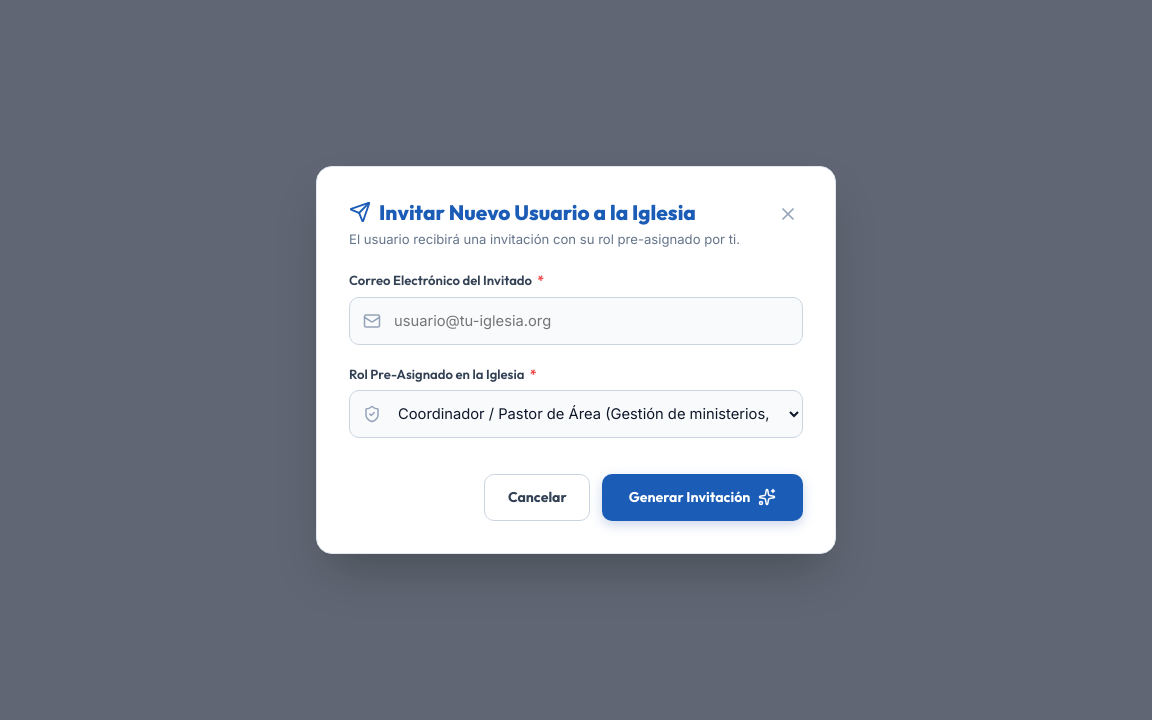
it: UserInviteModal Component › generates invitation link when submitted
Type "nuevo@ong.org" into the field with placeholder "usuario@tu-iglesia.org" at [576, 321], box [349,297,803,345]
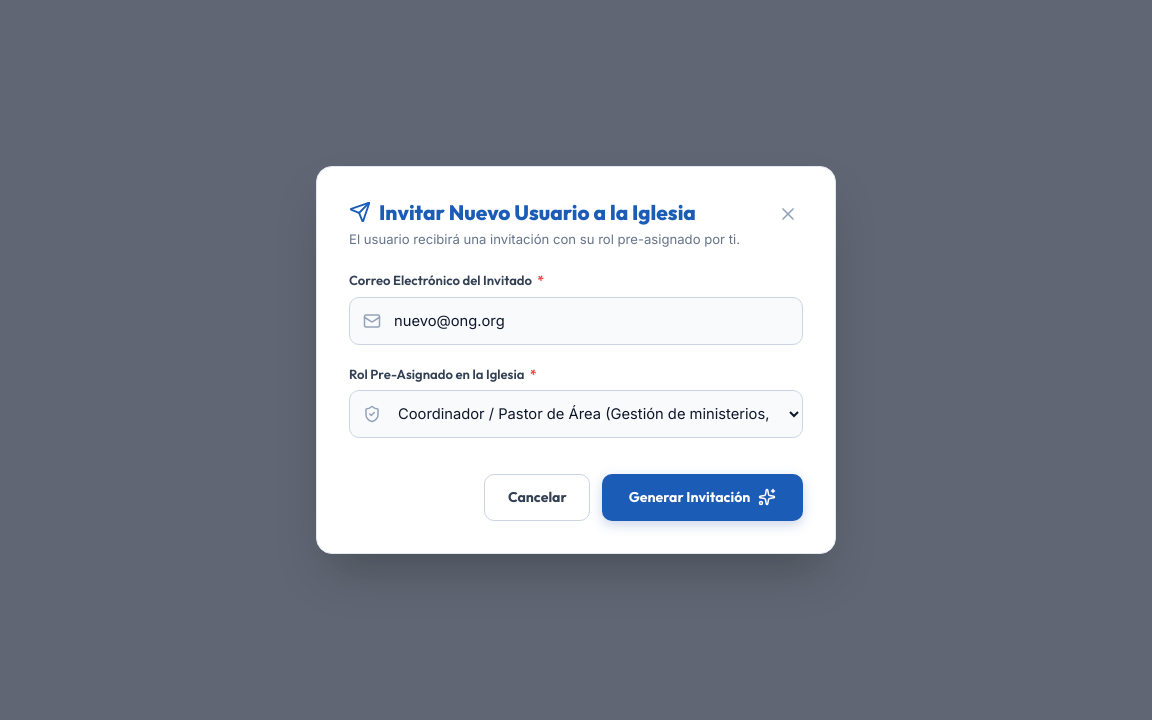
Click the button "Generar Invitación" at [703, 497], box [602,474,803,521]
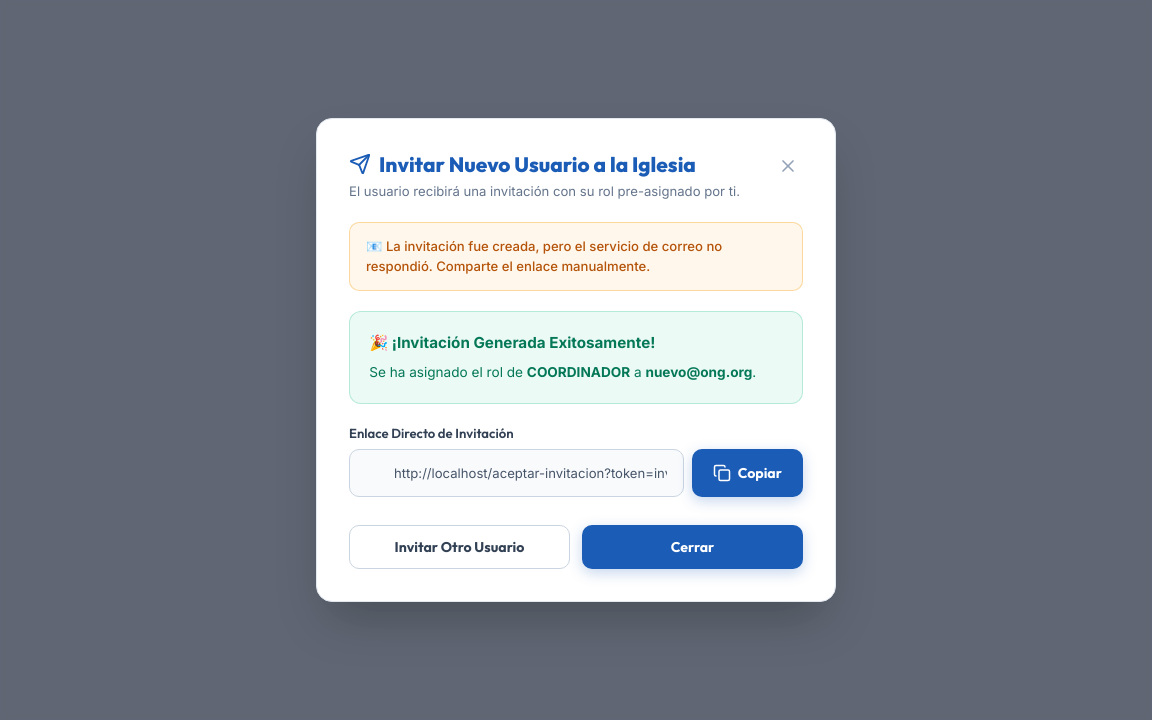
Expected: the text "🎉 ¡Invitación Generada Exitosamente!" is shown, [369,333,655,352]
